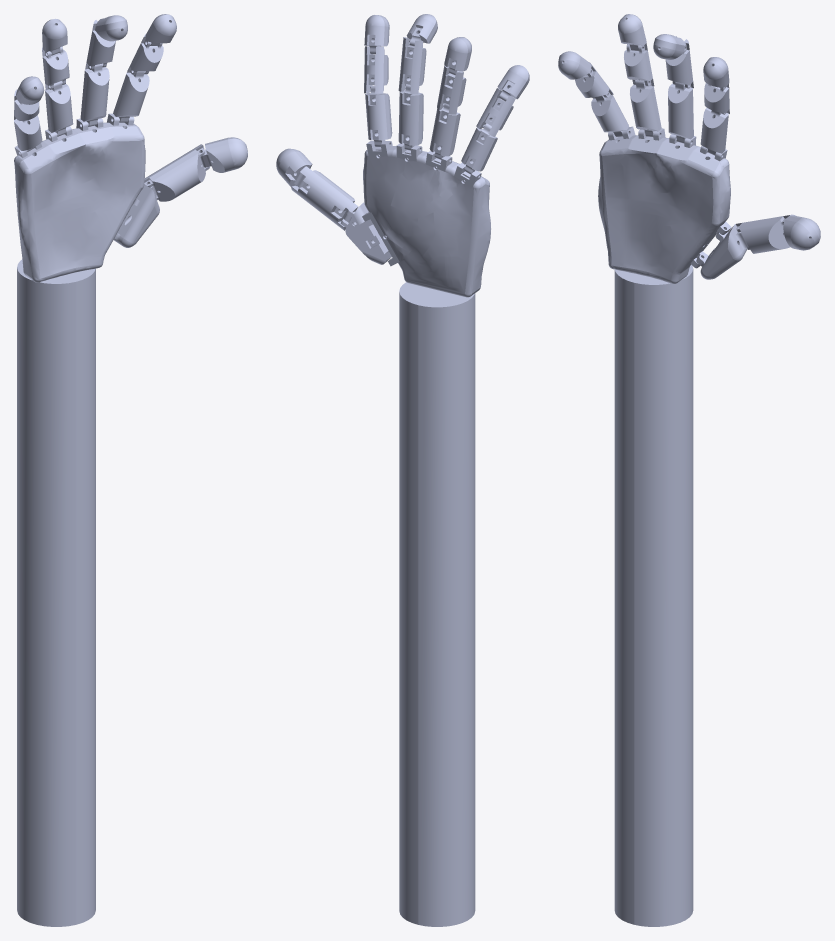
The model's file is result-transformed.glb.
3 views of the same model, side by side, from view 1: azimuth 30°, elevation 25°; view 2: azimuth 150°, elevation 25°; view 3: azimuth 330°, elevation 25° (orthographic). The views are drawn at different scales.
Parts seen in each view (by area): view 1: nodes[0]; view 2: nodes[0]; view 3: nodes[0].
Part boxes in pixels (bbox=[...]): nodes[0]: bbox=[14, 14, 247, 926]; nodes[0]: bbox=[276, 14, 529, 926]; nodes[0]: bbox=[558, 14, 820, 926].
Size of the model in its own units: 178 by 632 by 70.64.
